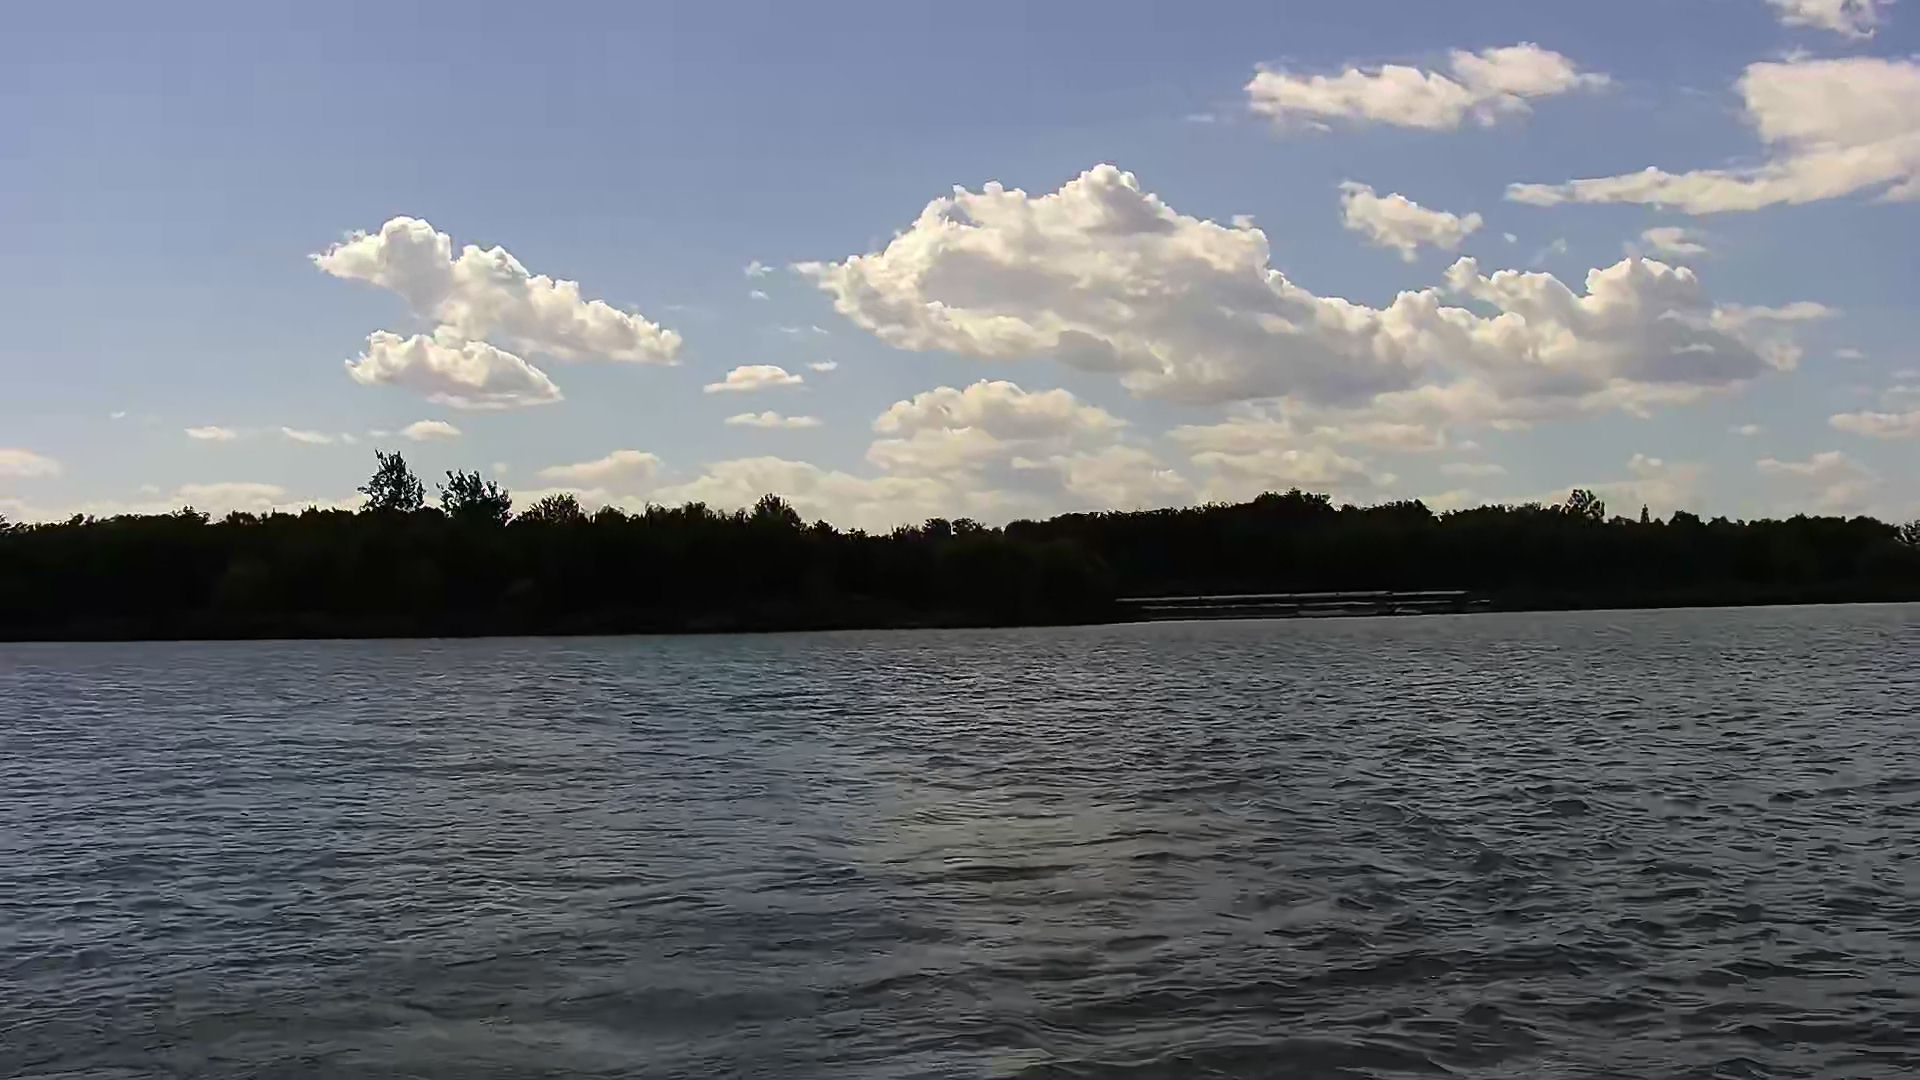bridge: (1120, 593, 1466, 615)
